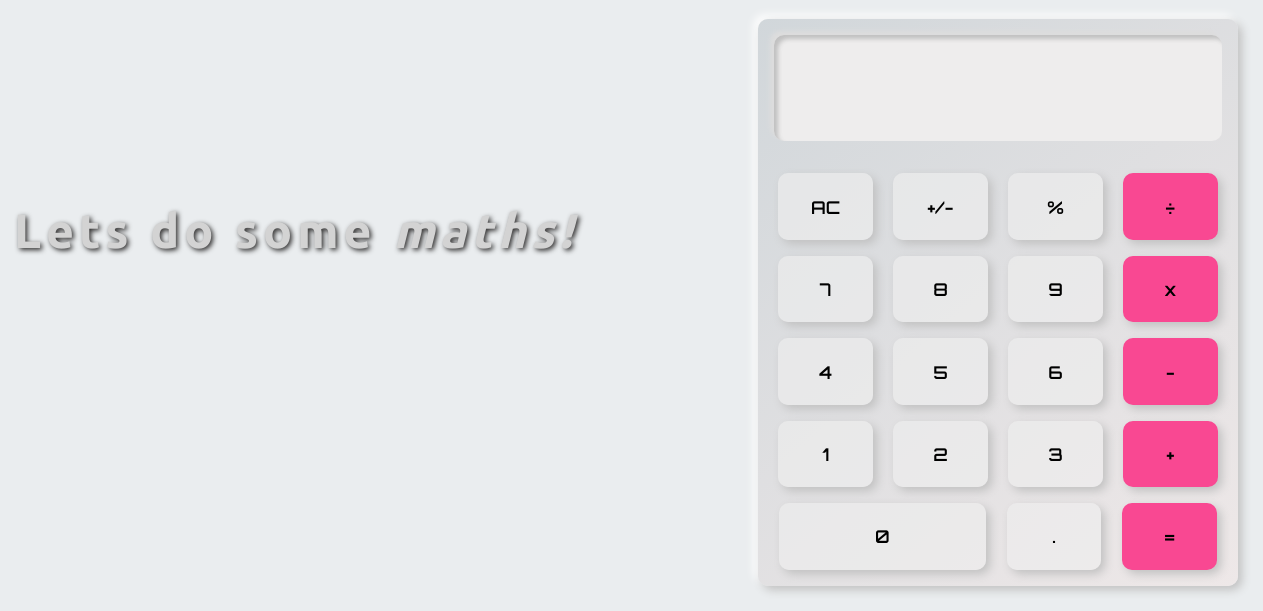
Calculator page › return result of  1 + 1 and update display
Click the button with test id "1".
click(826, 454)  # box [778,421,873,487]
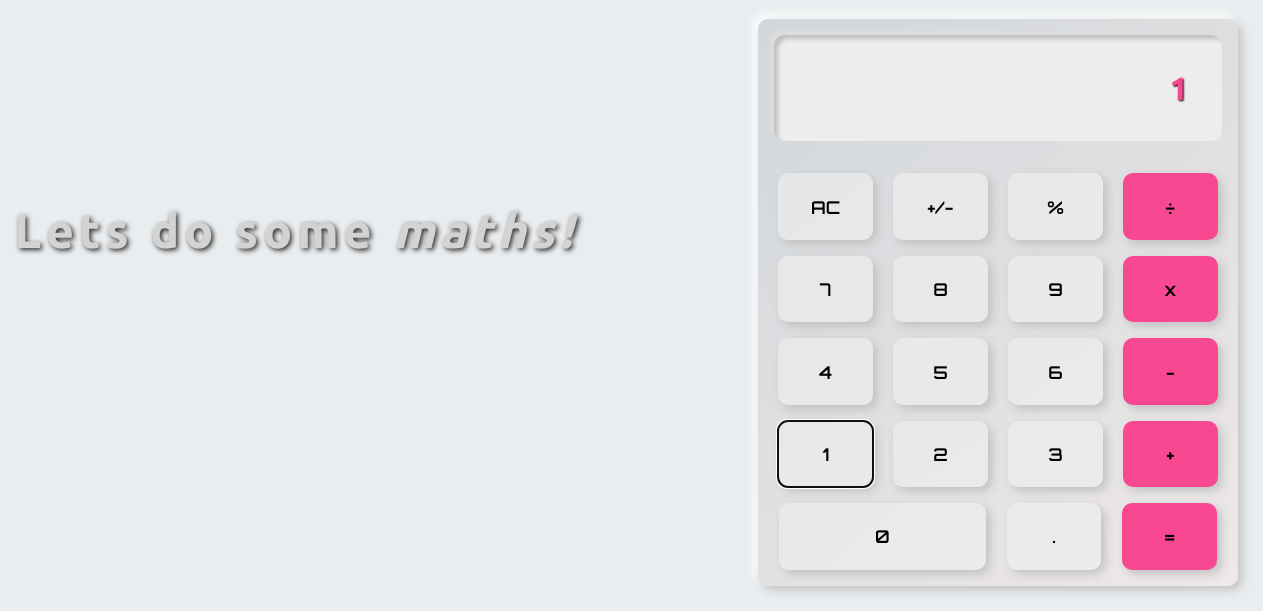
Click the button with test id "+".
click(1170, 454)  # box [1123,421,1218,487]
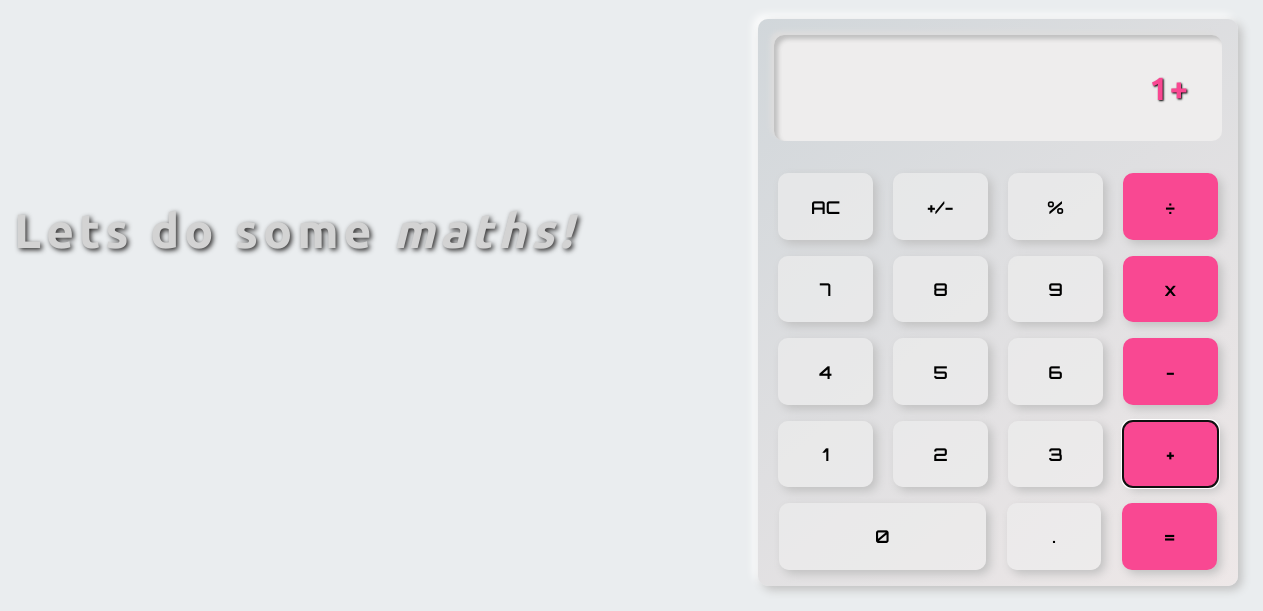
Click the button with test id "1".
click(826, 454)  # box [778,421,873,487]
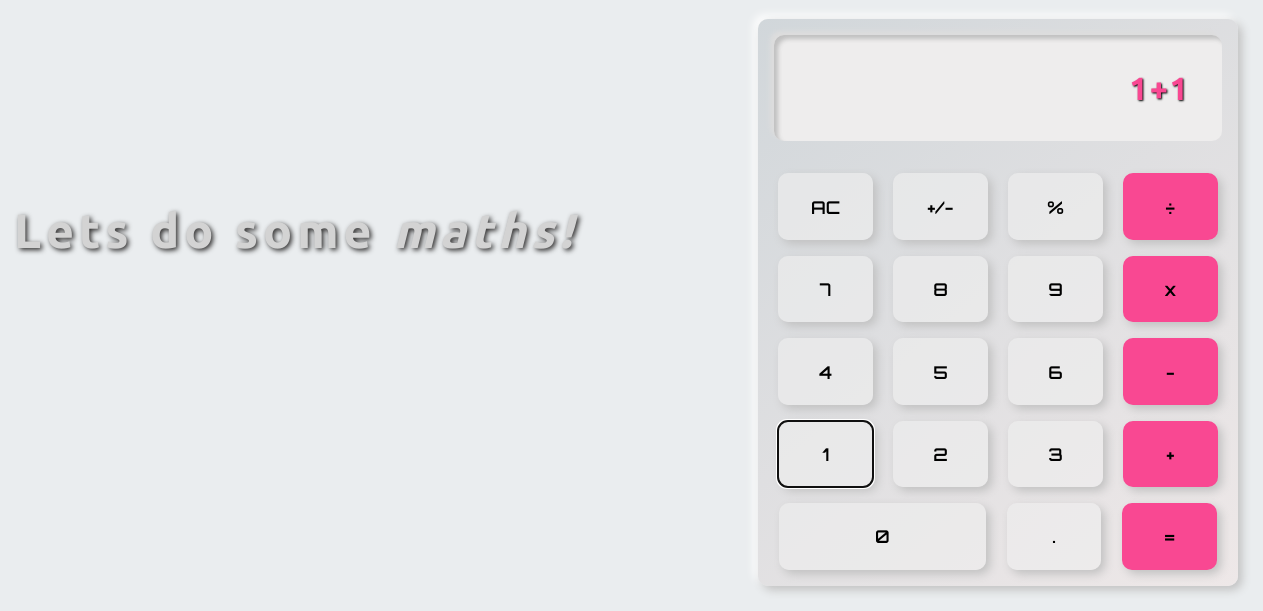
Click the button with test id "=".
click(1170, 536)  # box [1122,503,1217,570]
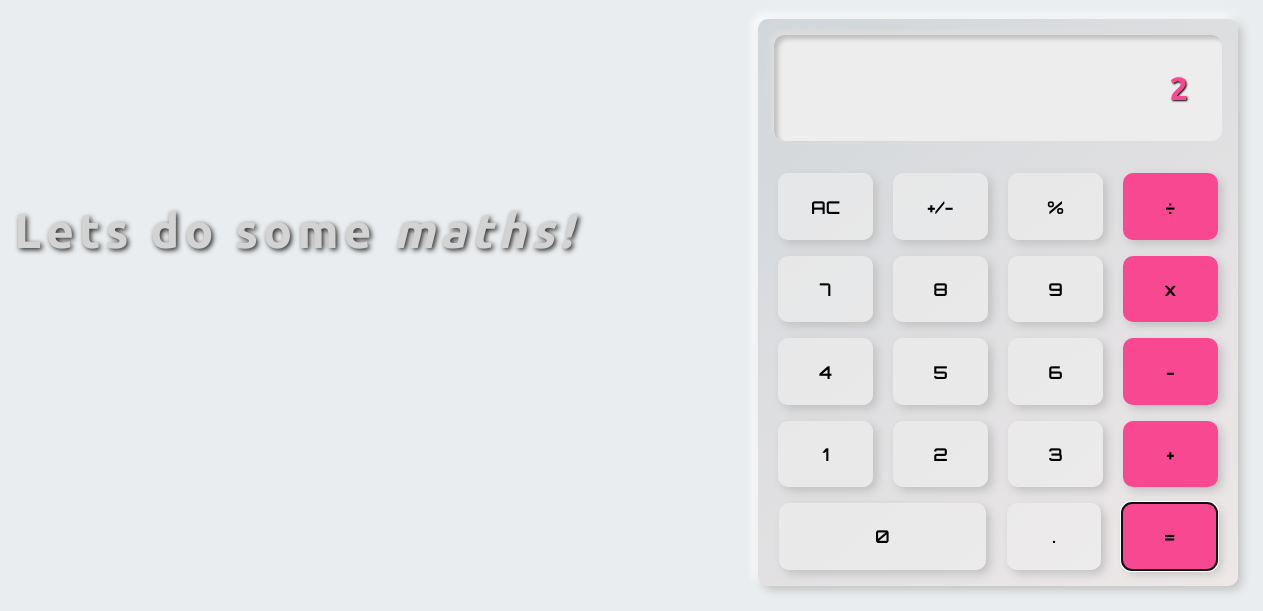
Now the text with test id "display" reads "2", box [1170,70,1190,106]
